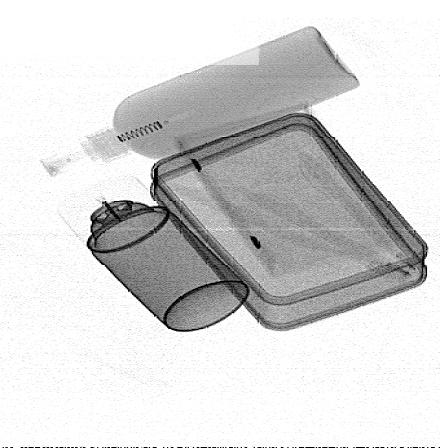Sprayer: (59, 176, 249, 331)
